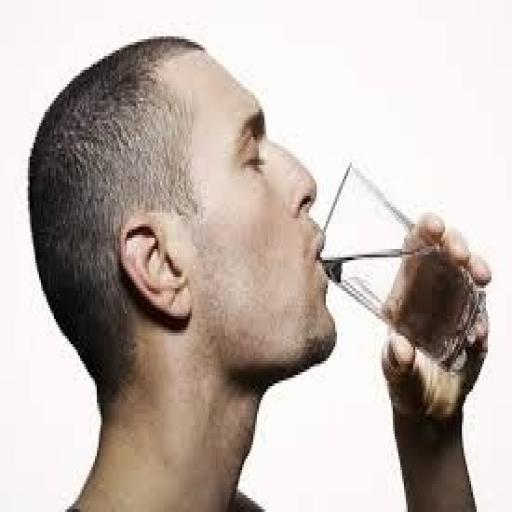drinking: (0, 55, 486, 372)
